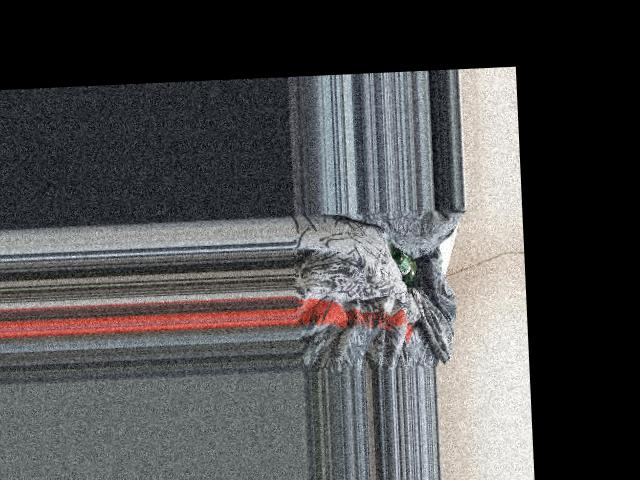beer: (391, 246, 420, 289)
